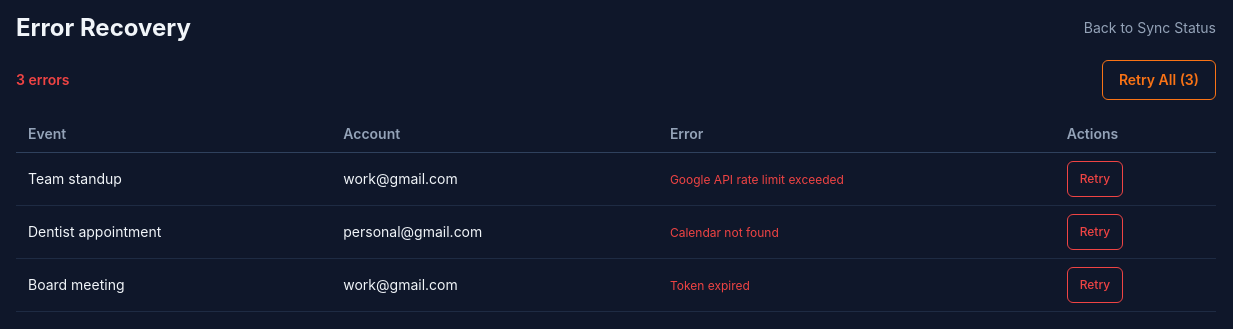
ErrorRecovery Page › integration: batch retry all › removes all mirrors on full batch success
This screenshot has width=1233, height=329.
What coordinates should you click on to do the following:
click the button with test id "batch-retry-btn"
I would click on:
 (1159, 80)
Its box is [1102,60,1216,100].
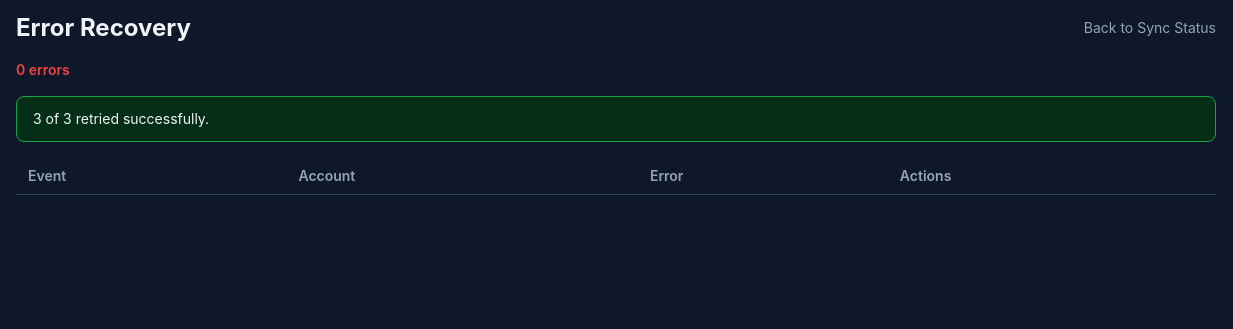
expect the row with test id "error-row-m1" is gone: met
expect the row with test id "error-row-m2" is gone: met
expect the row with test id "error-row-m3" is gone: met
